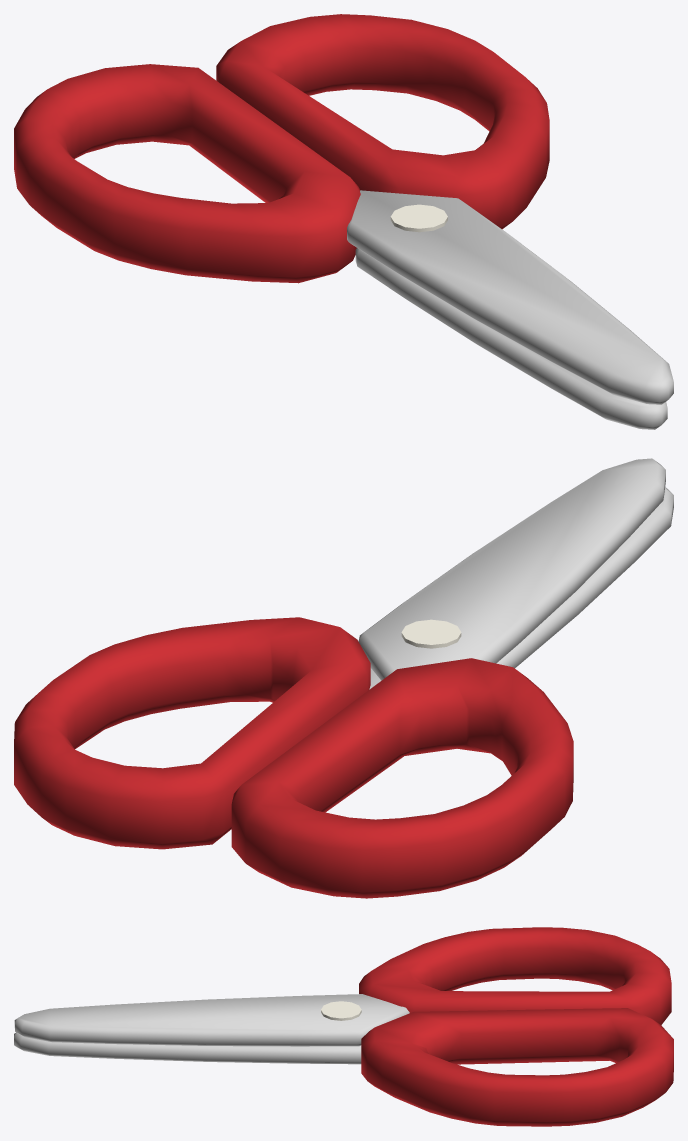
File: scissor.fbx
The picture shows the model from 3 angles, top to bottom: view 1: azimuth 30°, elevation 25°; view 2: azimuth 150°, elevation 25°; view 3: azimuth 270°, elevation 25°; orthographic projection. The views are drawn at different scales.
Parts seen in each view (by area): view 1: scissor; view 2: scissor; view 3: scissor.
Boxes of the visible parts, bbox=[...] form: scissor: bbox=[14, 14, 673, 429]; scissor: bbox=[14, 458, 673, 898]; scissor: bbox=[14, 927, 673, 1126].
Bounding box in the file's own units: 0.7974 × 0.1061 × 1.38.
